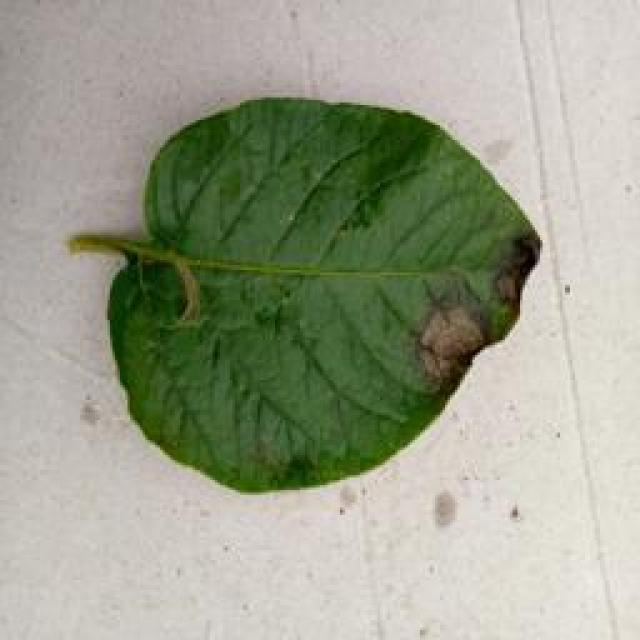late_blight: (80, 92, 545, 498)
